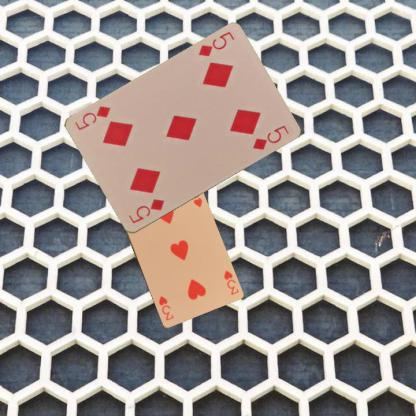3h: (221, 267, 240, 296)
5d: (125, 196, 166, 226), (195, 29, 235, 58)
